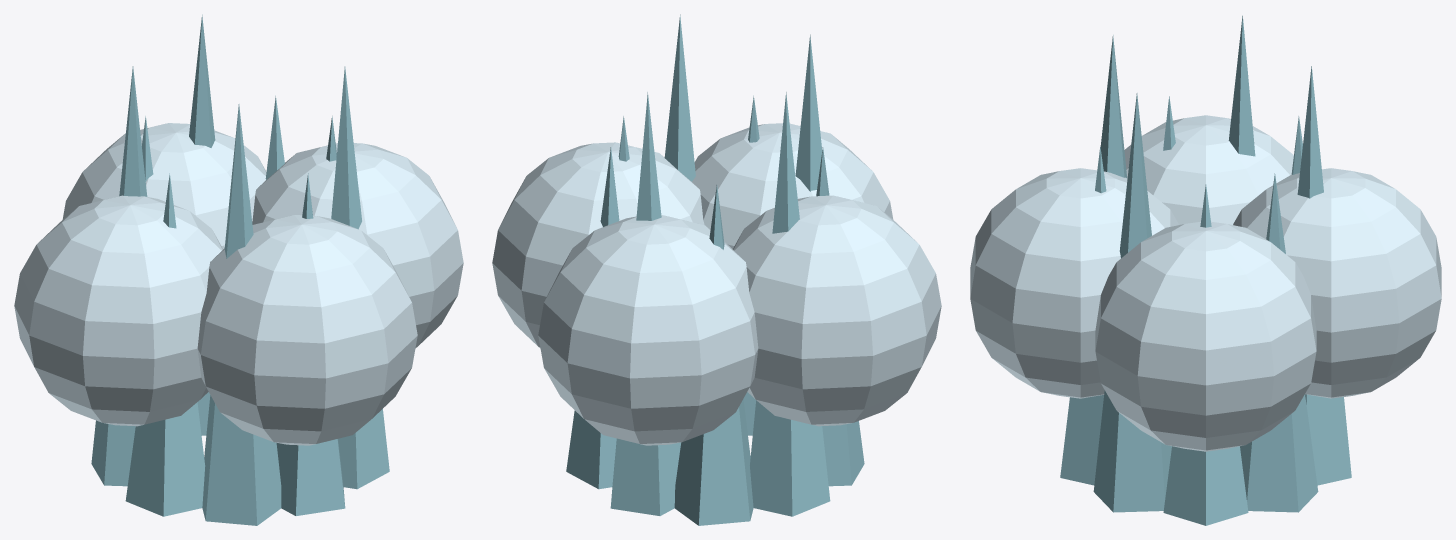
The model's file is 4103_tidefruit.glb.
3 views of the same model, side by side, from view 1: azimuth 30°, elevation 25°; view 2: azimuth 150°, elevation 25°; view 3: azimuth 270°, elevation 25° (orthographic).
Size of the model in its own units: 0.54 by 0.5 by 0.5273.
